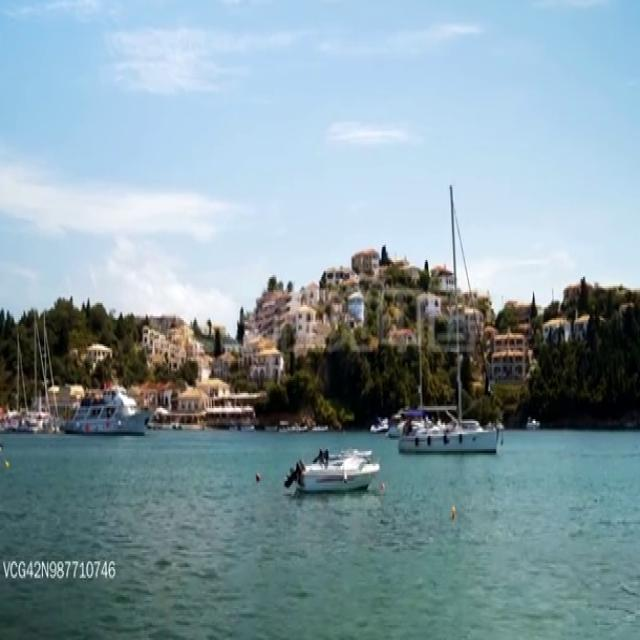houseboat: (291, 440, 378, 492)
passenger ship: (60, 385, 152, 438)
sailboat: (400, 179, 508, 450)
